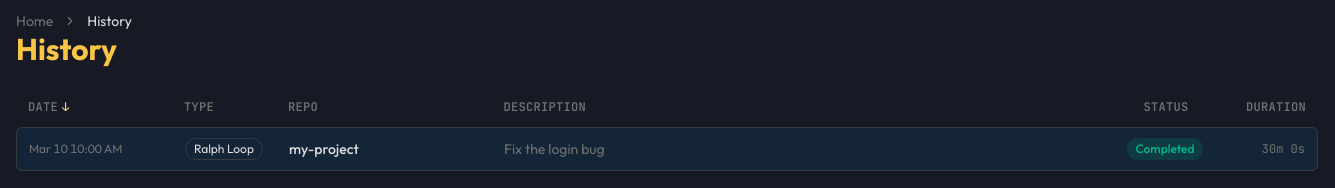
History › sorting › clicking Date column toggles sort direction (shows arrow indicator)
Expected: the text "Date" is shown, [28, 99, 58, 115]
Click to toggle to asc
Click the button "Date ↓": (98,107) [28, 99, 168, 115]
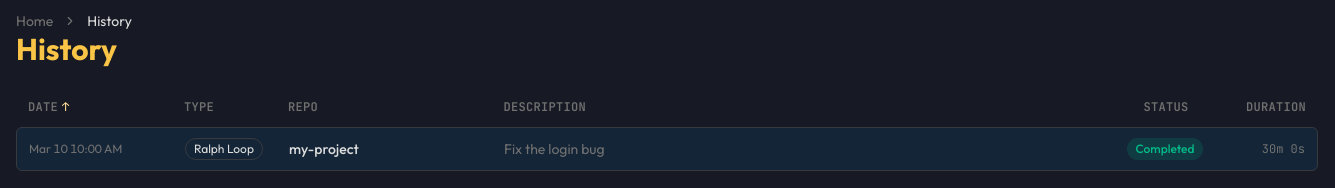
Now the button "Date ↑" is shown, box [28, 99, 168, 115]
